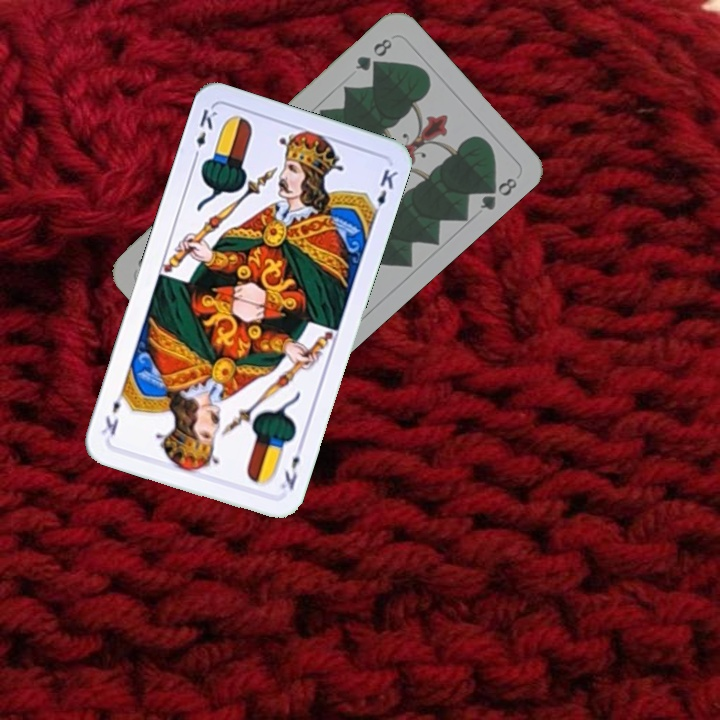EK: (189, 104, 220, 163), (276, 439, 306, 493)
G8: (351, 34, 395, 74)
